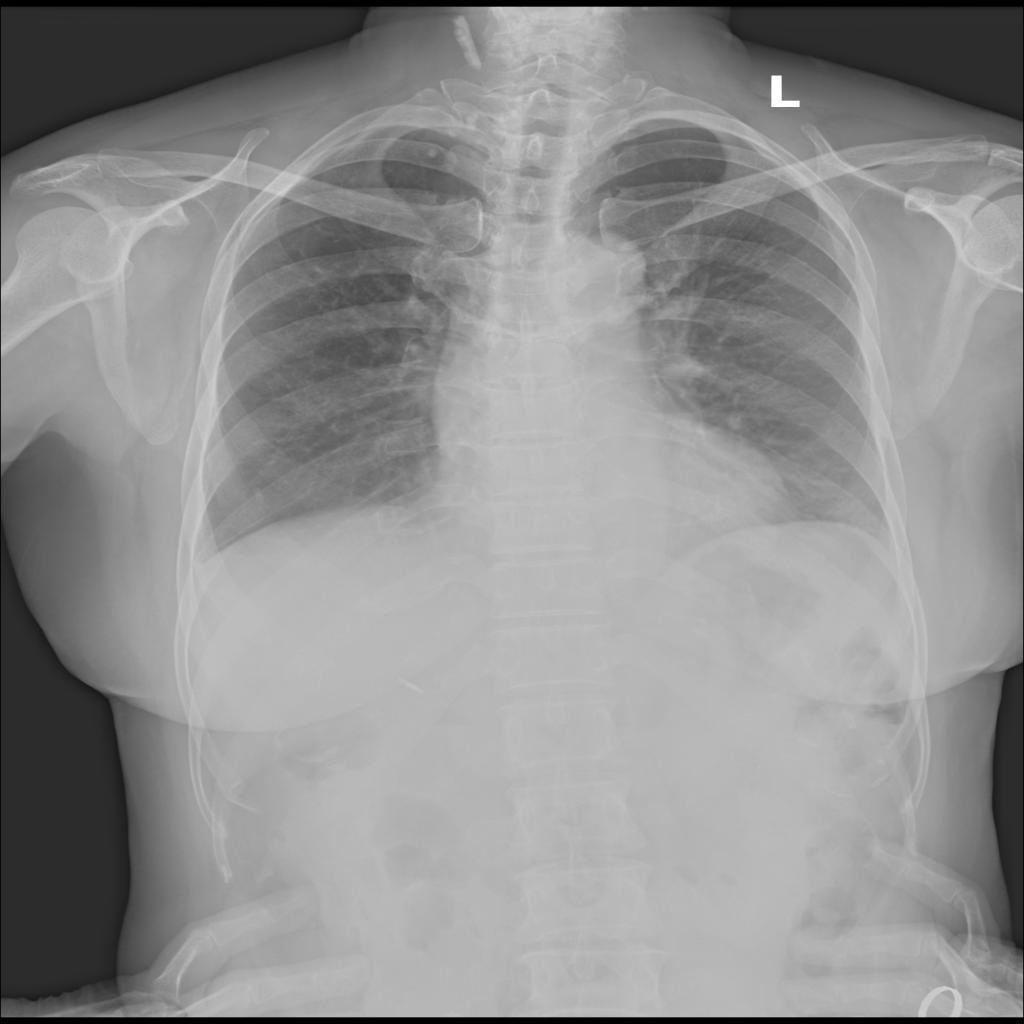Nodule: (426, 149, 440, 161)
